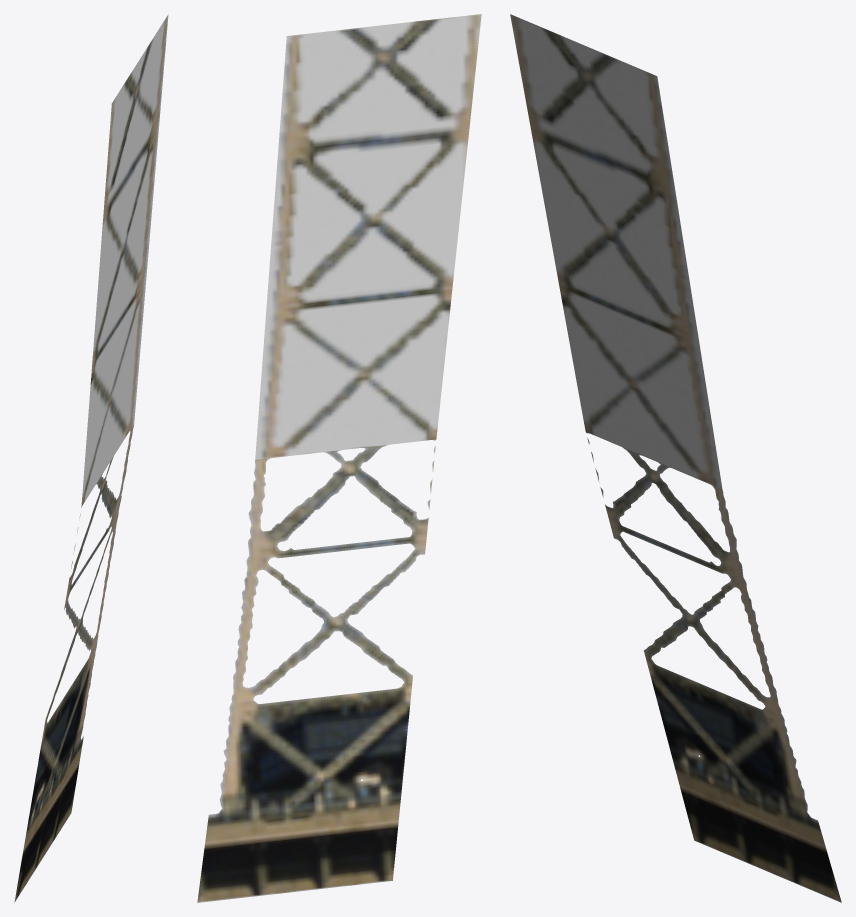
The model's file is 埃菲尔铁塔39.dae.
3 views of the same model, side by side, from view 1: azimuth 30°, elevation 25°; view 2: azimuth 150°, elevation 25°; view 3: azimuth 270°, elevation 25° (orthographic). The views are drawn at different scales.
Parts seen in each view (by area): view 1: SketchUp; view 2: SketchUp; view 3: SketchUp.
Part boxes in pixels (<box>): SketchUp: <box>14,14,168,902</box>; SketchUp: <box>197,14,481,902</box>; SketchUp: <box>510,14,841,902</box>.
Bounding box in the file's own units: 309 × 694 × 1909.
